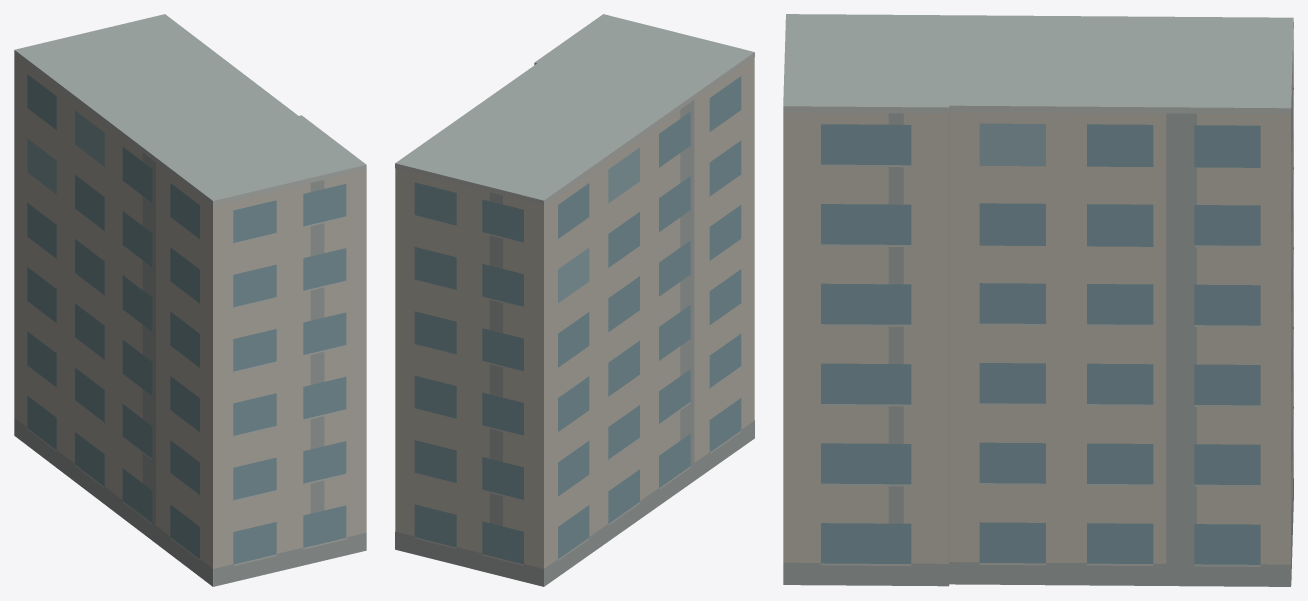
Rendered from survey-upis-33004786.glb.
3 renders of one model, left to right at view 1: azimuth 30°, elevation 25°; view 2: azimuth 150°, elevation 25°; view 3: azimuth 270°, elevation 25°, orthographic. The views are drawn at different scales.
Parts seen in each view (by area): view 1: survey-upis-33004786.tmp; view 2: survey-upis-33004786.tmp; view 3: survey-upis-33004786.tmp.
Part boxes in pixels (x1,y1,x2,y2): survey-upis-33004786.tmp: [14, 14, 366, 586]; survey-upis-33004786.tmp: [395, 14, 754, 586]; survey-upis-33004786.tmp: [783, 14, 1293, 586].
Size of the model in its own units: 7.86 by 18.6 by 17.99.
